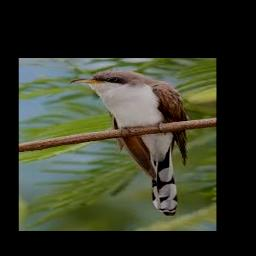Cuckoo: (70, 70, 188, 215)
